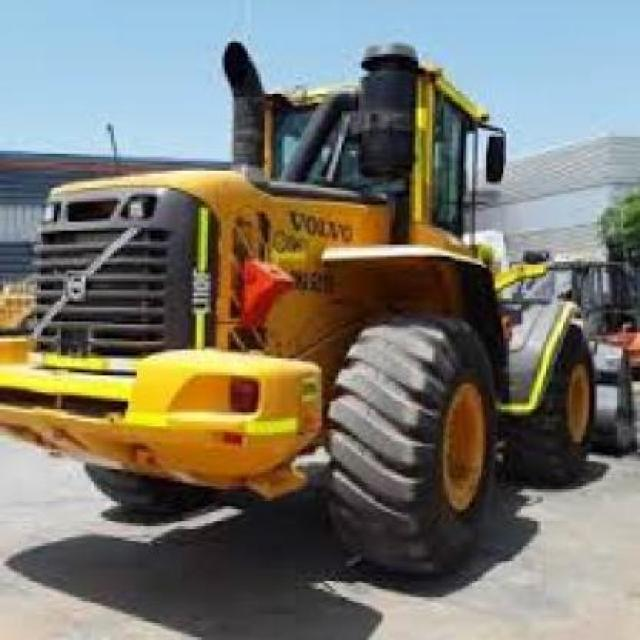buldozerpayloadergrader: (7, 30, 598, 573)
